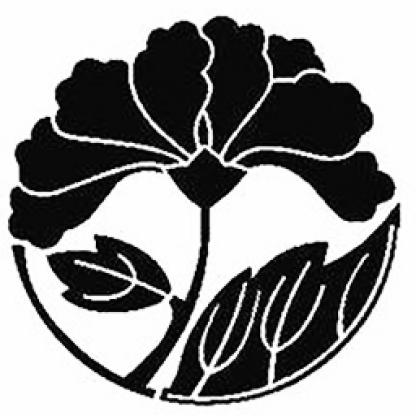kamon: (7, 14, 403, 408)
